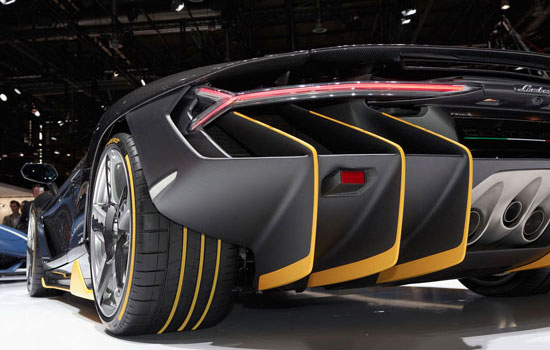tire: (90, 131, 253, 337), (24, 208, 68, 297)
